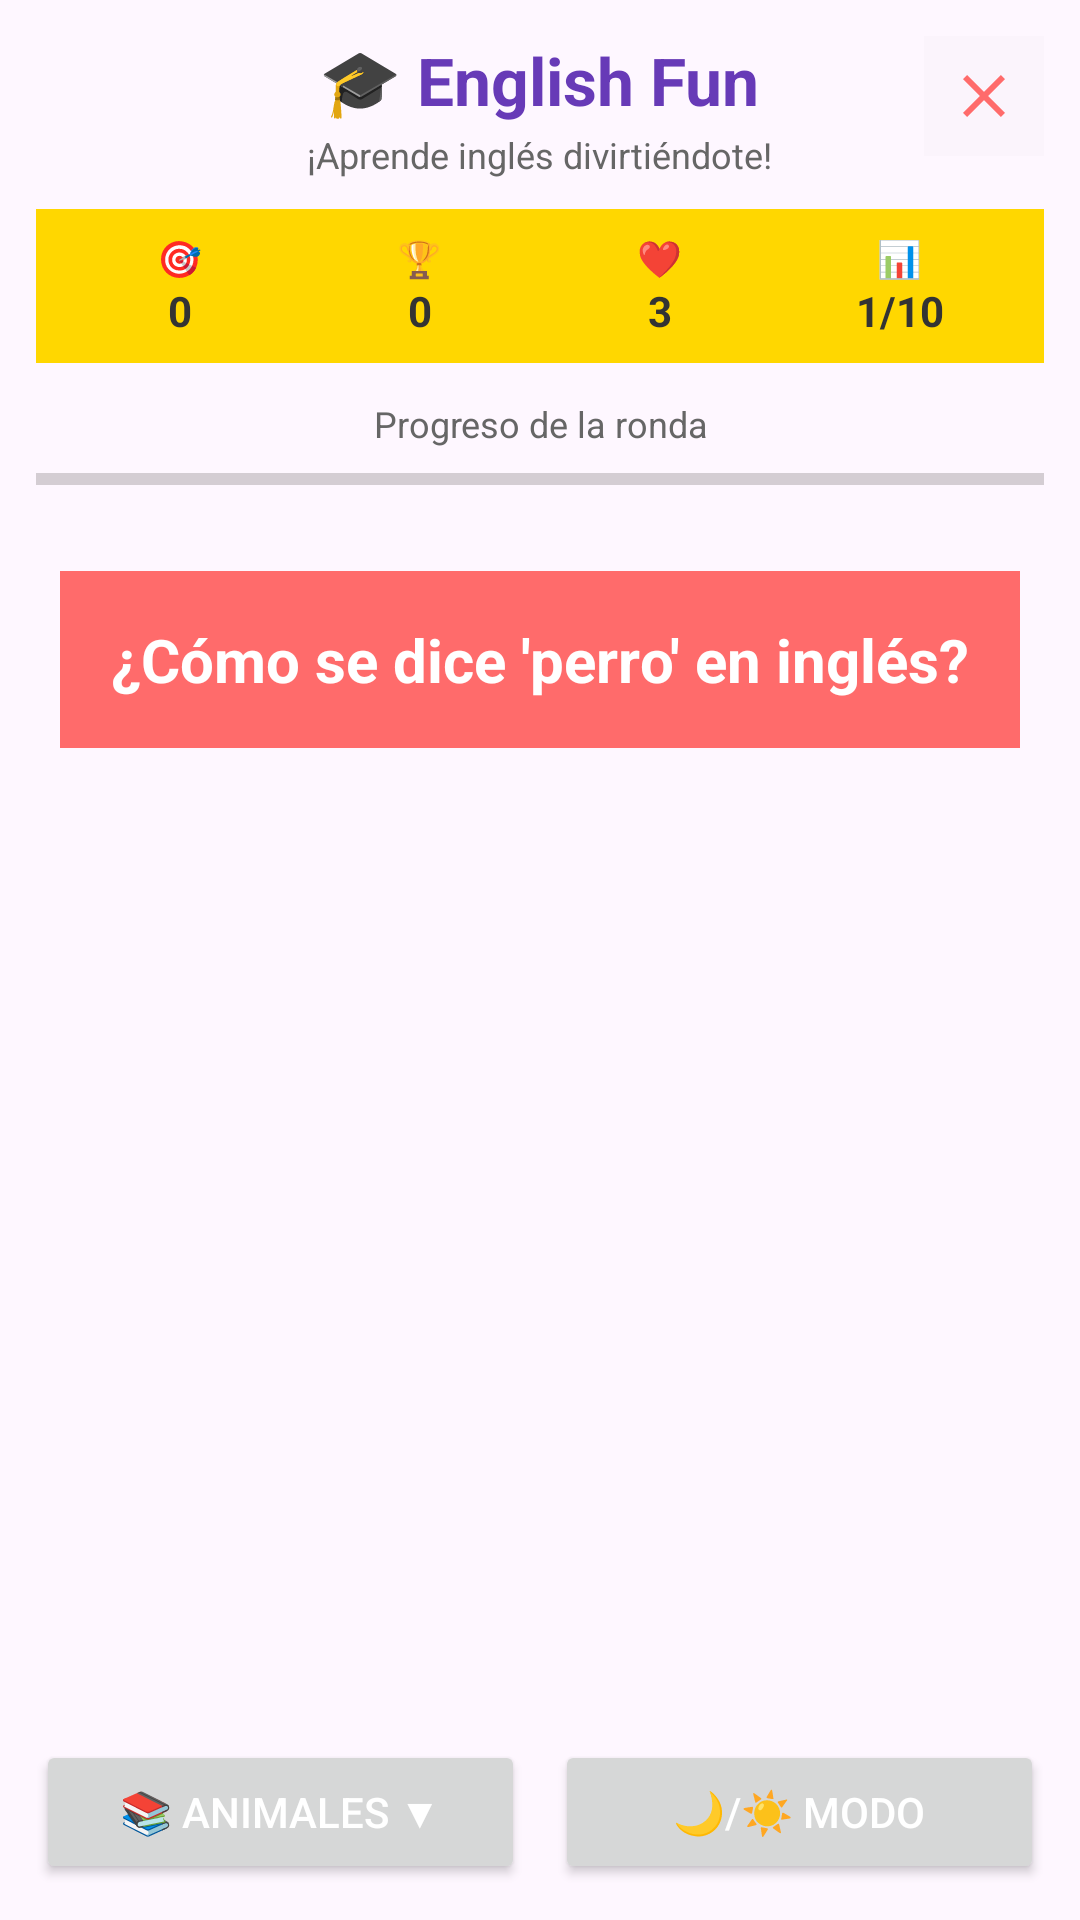

Icon click points for this 1080 × 1920 phone screenshot, format point (x, y):
Cerrar juego: point (984, 96)
